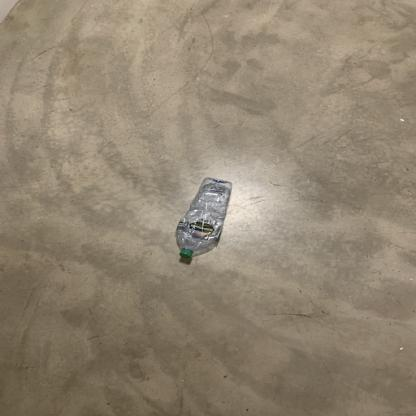trash: (170, 176, 234, 261)
